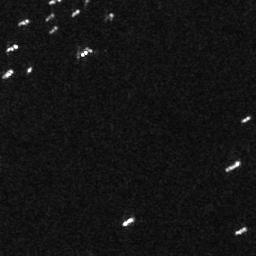ship: (224, 160, 242, 172), (121, 216, 137, 228), (233, 226, 249, 237), (4, 44, 20, 53), (2, 69, 15, 80), (80, 47, 93, 57), (45, 13, 55, 22), (70, 9, 81, 17), (49, 26, 59, 34), (18, 19, 29, 26), (241, 116, 251, 123), (26, 65, 33, 74), (48, 1, 63, 5), (109, 12, 114, 21)
